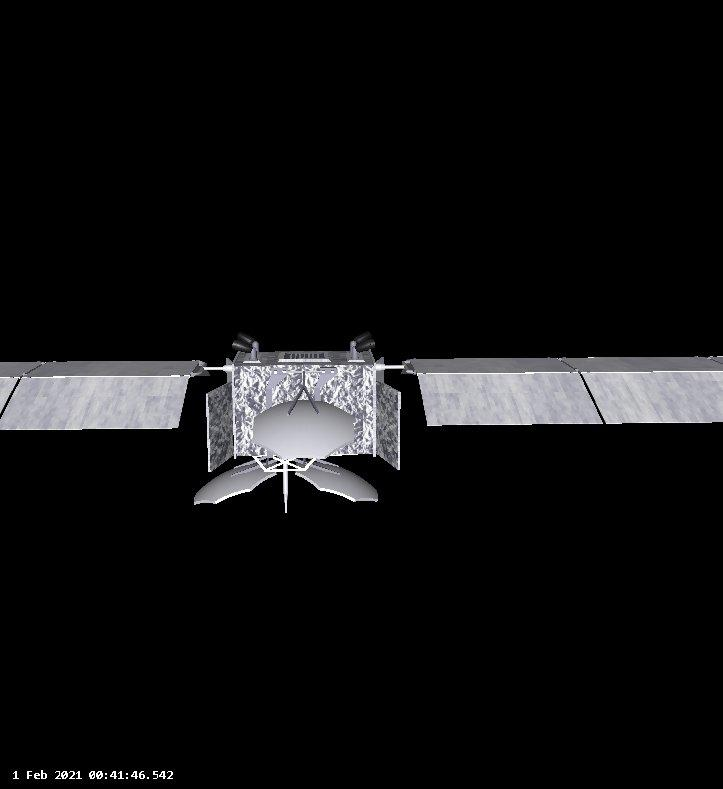antenna: (189, 456, 381, 515), (254, 382, 355, 460)
body: (204, 349, 403, 473)
solar: (403, 355, 723, 428), (0, 359, 211, 431)
thruster: (348, 327, 375, 345), (236, 330, 259, 347), (354, 338, 377, 354), (231, 338, 254, 353)
